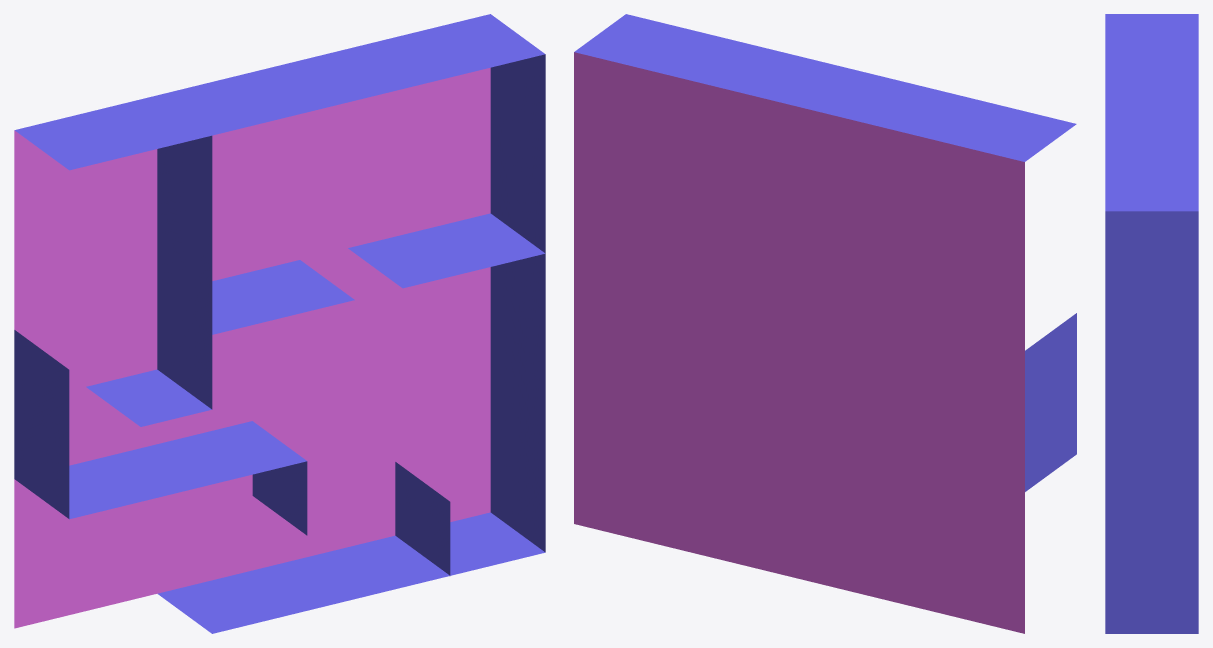
File: room2.gltf
The picture shows the model from 3 angles, left to right: view 1: azimuth 30°, elevation 25°; view 2: azimuth 150°, elevation 25°; view 3: azimuth 270°, elevation 25°; orthographic projection. The views are drawn at different scales.
Parts seen in each view (by area): view 1: Plane.010, Plane.012, Plane.013, Plane.011, Plane.017, Plane.029, Plane.014, Plane.015, Plane.038, Plane.039, Plane.050, Plane.016 (+5 smaller); view 2: Plane.010, Plane.012, Plane.015; view 3: Plane.013, Plane.012.
Part boxes in pixels (left/top/right/bottom): Plane.010: left=14, top=67, right=490, bottom=628; Plane.012: left=14, top=14, right=545, bottom=170; Plane.013: left=490, top=54, right=545, bottom=552; Plane.011: left=157, top=512, right=544, bottom=633; Plane.017: left=69, top=421, right=306, bottom=516; Plane.029: left=157, top=135, right=212, bottom=349; Plane.014: left=157, top=136, right=212, bottom=409; Plane.015: left=14, top=330, right=69, bottom=518; Plane.038: left=349, top=233, right=543, bottom=288; Plane.039: left=212, top=260, right=354, bottom=317; Plane.050: left=86, top=369, right=211, bottom=425; Plane.016: left=348, top=213, right=544, bottom=255; Plane.010: left=574, top=52, right=1024, bottom=633; Plane.012: left=574, top=14, right=1076, bottom=161; Plane.015: left=1025, top=313, right=1076, bottom=491; Plane.013: left=1105, top=211, right=1198, bottom=633; Plane.012: left=1105, top=14, right=1198, bottom=211.
Size of the model in its own units: 20 by 20.03 by 4.
Materials: 2 (2 with a texture image).
